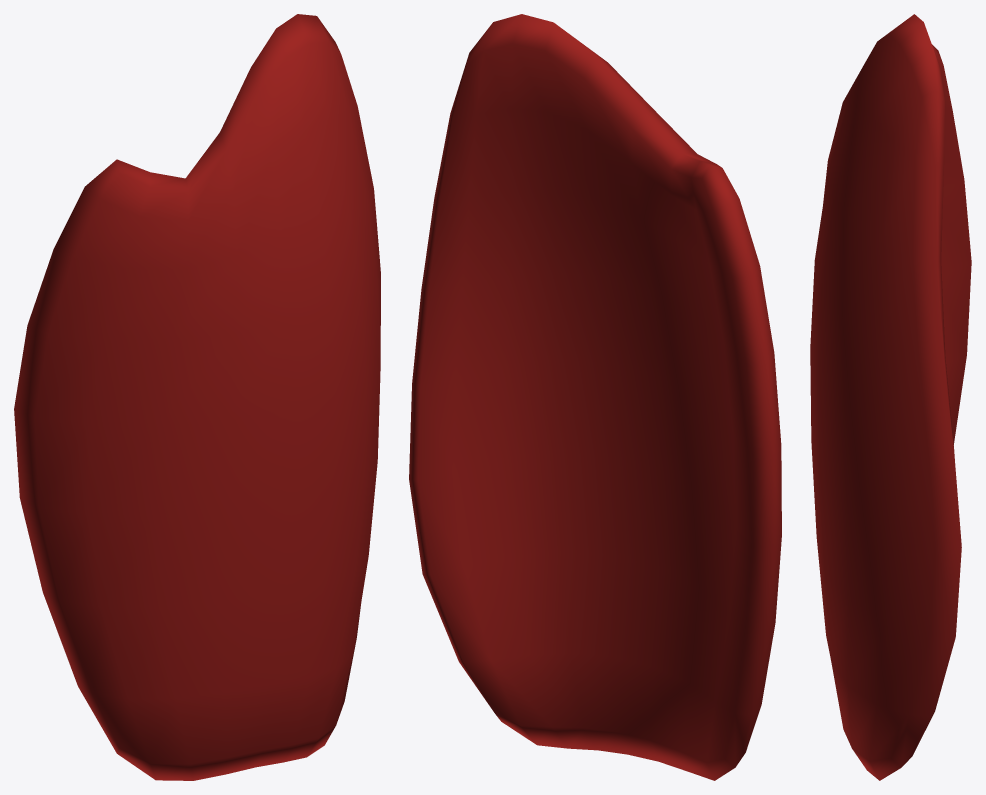
The model's file is petalo_rojo.fbx.
3 views of the same model, side by side, from view 1: azimuth 30°, elevation 25°; view 2: azimuth 150°, elevation 25°; view 3: azimuth 270°, elevation 25° (orthographic). The views are drawn at different scales.
Visible parts, largest first — view 1: petalo.rojo; view 2: petalo.rojo; view 3: petalo.rojo.
Boxes of the visible parts, <box> form: petalo.rojo: <box>14,14,380,780</box>; petalo.rojo: <box>409,14,781,780</box>; petalo.rojo: <box>810,14,971,780</box>.
Size of the model in its own units: 7.7 by 15.03 by 2.9.
